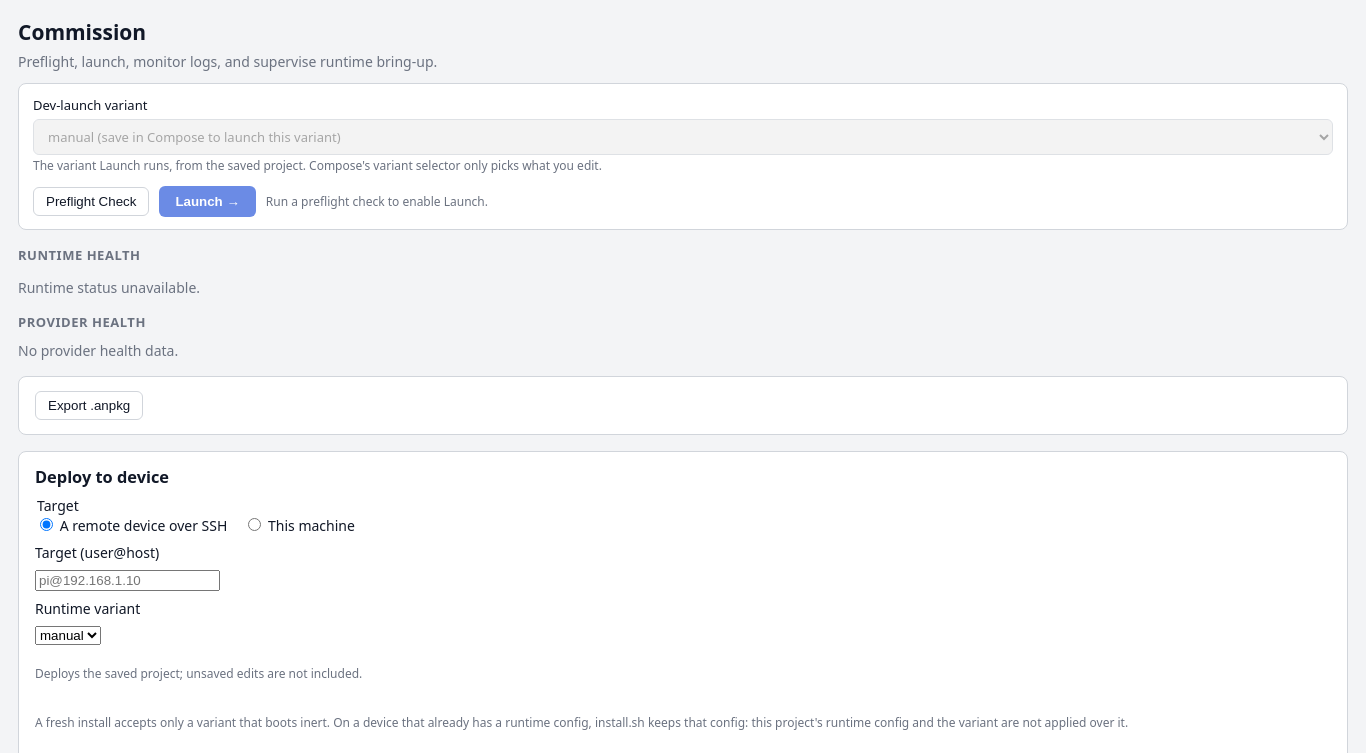
Scenario: Commission.svelte › lists every validation error when several share a check name
The width and height of the screenshot is (1366, 753).
Click the button "Preflight Check" at (91, 202), box [33,187,149,216]
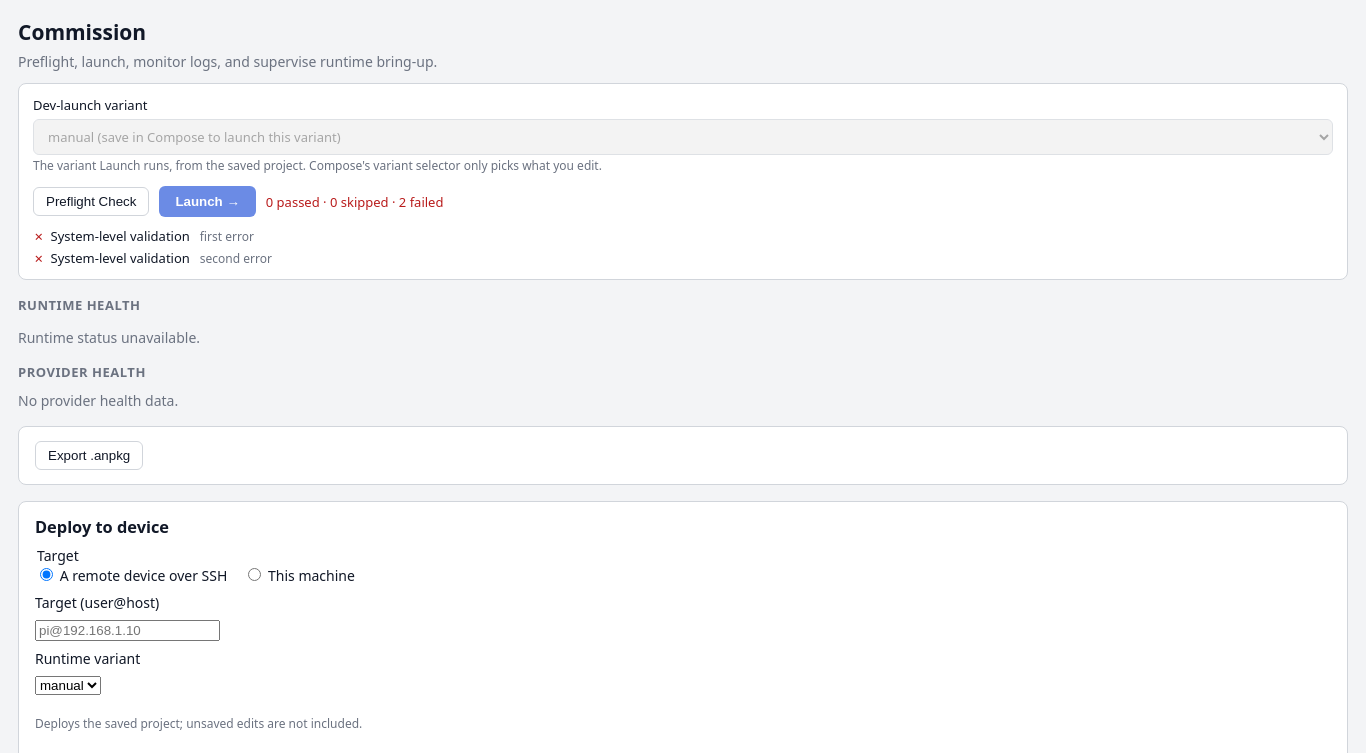
expect the text "0 passed · 0 skipped · 2 failed" is shown: met, box [266,192,444,210]
expect the text "first error" is shown: met, box [200,228,254,245]
expect the text "second error" is shown: met, box [200,250,272,267]
